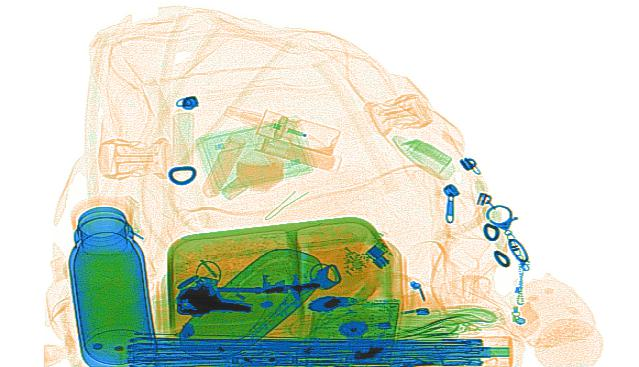plasticBottleWithaNozzle: (225, 104, 339, 158)
